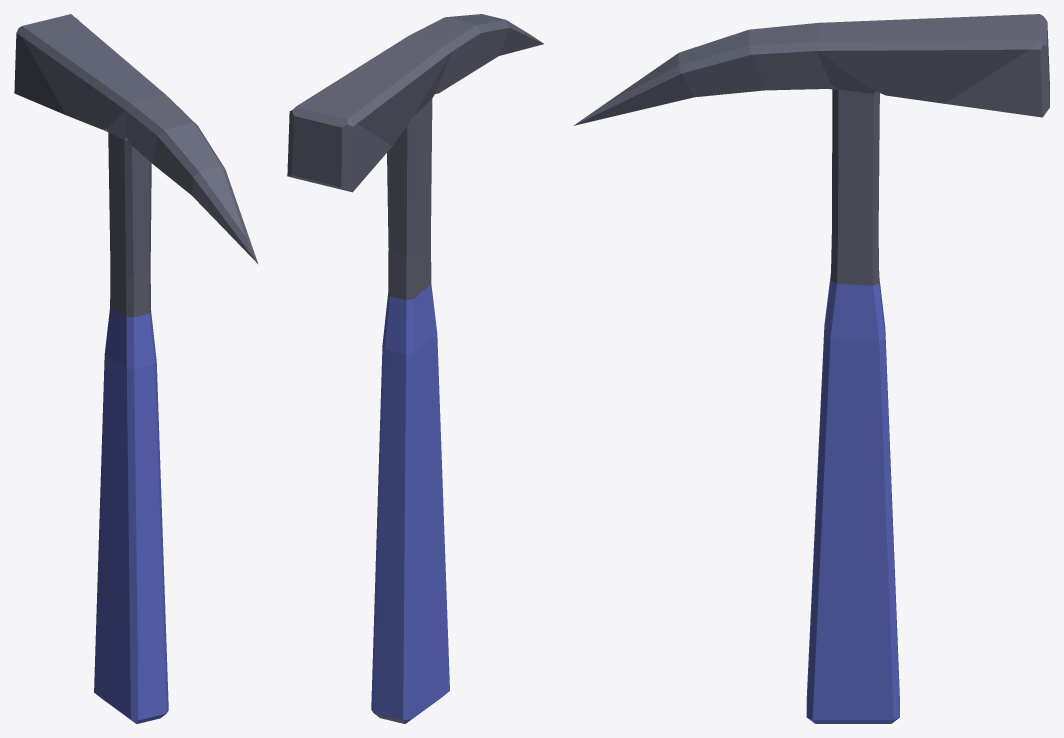
File: rockHammer.fbx
The picture shows the model from 3 angles, left to right: view 1: azimuth 30°, elevation 25°; view 2: azimuth 150°, elevation 25°; view 3: azimuth 270°, elevation 25°; orthographic projection. The views are drawn at different scales.
Parts seen in each view (by area): view 1: rock hammer; view 2: rock hammer; view 3: rock hammer.
Part boxes in pixels (left/top/right/bottom): rock hammer: left=14, top=14, right=258, bottom=723; rock hammer: left=287, top=14, right=543, bottom=723; rock hammer: left=573, top=14, right=1049, bottom=723.
Bounding box in the file's own units: 42.17 × 407 × 255.
